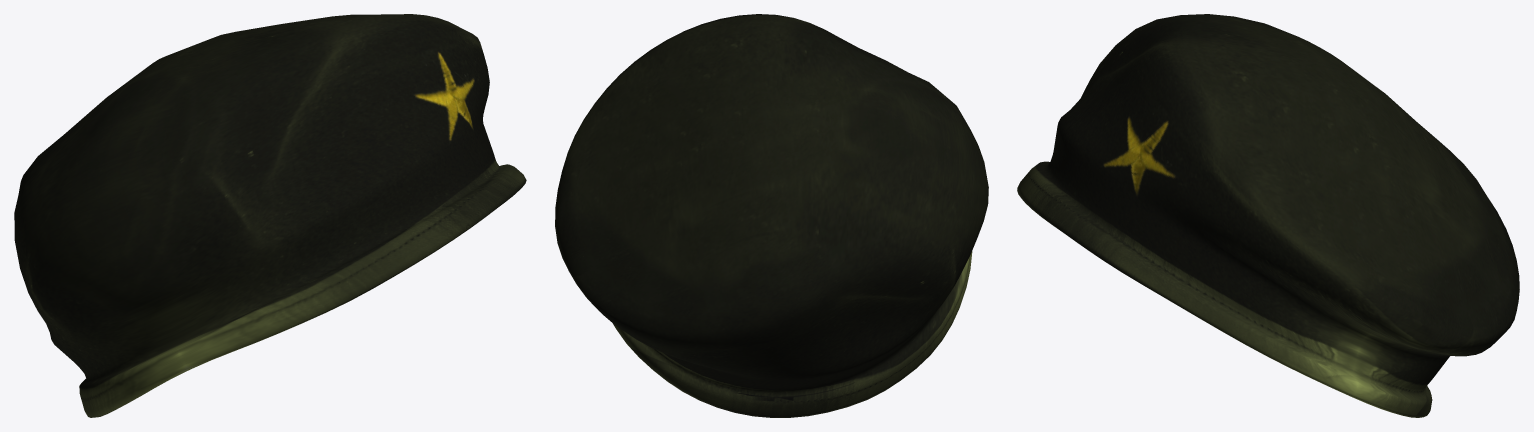
File: beret.fbx
3 renders of one model, left to right at view 1: azimuth 30°, elevation 25°; view 2: azimuth 150°, elevation 25°; view 3: azimuth 270°, elevation 25°, orthographic. The views are drawn at different scales.
Visible parts, largest first — view 1: Che; view 2: Che; view 3: Che.
Part boxes in pixels (left/top/right/bottom): Che: left=14, top=14, right=526, bottom=417; Che: left=555, top=14, right=988, bottom=417; Che: left=1017, top=14, right=1519, bottom=417.
Size of the model in its own units: 230 by 193 by 228.
Materials: 1 (1 with a texture image).
